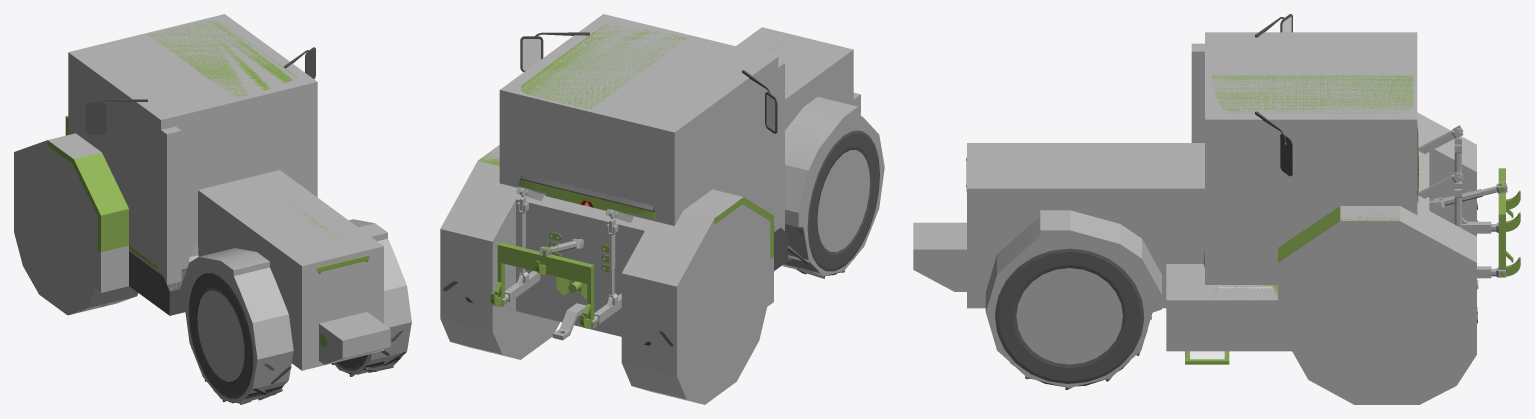
Rendered from TAC3.fbx.
The picture shows the model from 3 angles, left to right: view 1: azimuth 30°, elevation 25°; view 2: azimuth 150°, elevation 25°; view 3: azimuth 270°, elevation 25°; orthographic projection. The views are drawn at different scales.
Parts seen in each view (by area): view 1: Group_003, Group#3#1_001, Group#3#2_001, Group_001, Group_020, Group_050, Group_002, Group_006, Group_052; view 2: Group_003, Group#3#1_001, Group_001, Group#147_001, Group#3#2_001, Group_006, Group#147_002, Group_052, Group_050, Group_030, Group_010, Group_044 (+4 smaller); view 3: Group_003, Group_002, Group#3#1_001, Group_005, Group#147_001, Group_056, Group_052.
Part boxes in pixels (<box>): Group_003: <box>14,14,411,403</box>; Group#3#1_001: <box>148,20,297,98</box>; Group#3#2_001: <box>47,140,198,269</box>; Group_001: <box>188,273,291,404</box>; Group_020: <box>129,251,343,315</box>; Group_050: <box>85,99,147,134</box>; Group_002: <box>331,330,406,376</box>; Group_006: <box>180,257,266,302</box>; Group_052: <box>284,47,315,79</box>; Group_003: <box>440,14,884,404</box>; Group#3#1_001: <box>478,24,686,205</box>; Group_001: <box>784,130,879,278</box>; Group#147_001: <box>490,243,593,327</box>; Group#3#2_001: <box>587,190,774,258</box>; Group_006: <box>785,107,858,227</box>; Group#147_002: <box>490,242,596,328</box>; Group_052: <box>520,32,589,72</box>; Group_050: <box>742,70,777,133</box>; Group_030: <box>606,223,618,305</box>; Group_010: <box>552,303,586,340</box>; Group_044: <box>501,271,540,306</box>; Group_003: <box>913,32,1476,404</box>; Group_002: <box>995,248,1151,389</box>; Group#3#1_001: <box>1203,75,1418,298</box>; Group_005: <box>1040,210,1161,294</box>; Group#147_001: <box>1498,183,1520,276</box>; Group_056: <box>1185,351,1229,364</box>; Group_052: <box>1255,111,1292,176</box>.
Bounding box in the file's own units: 316 × 314 × 631.
